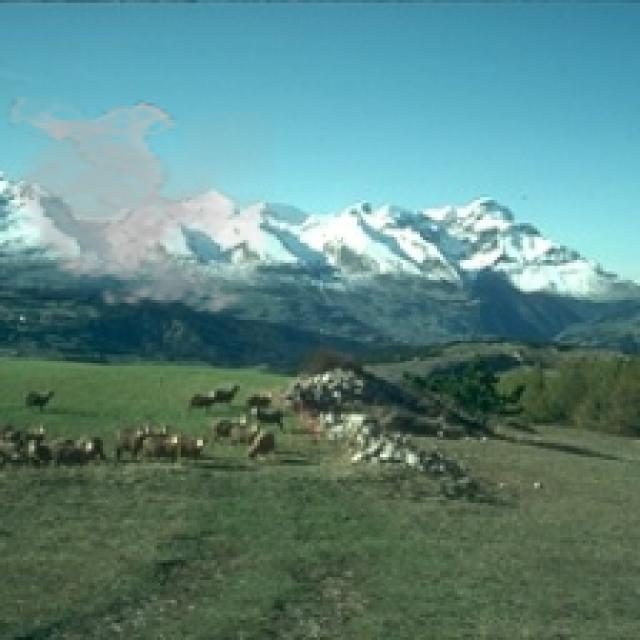smoke: (0, 97, 275, 321)
